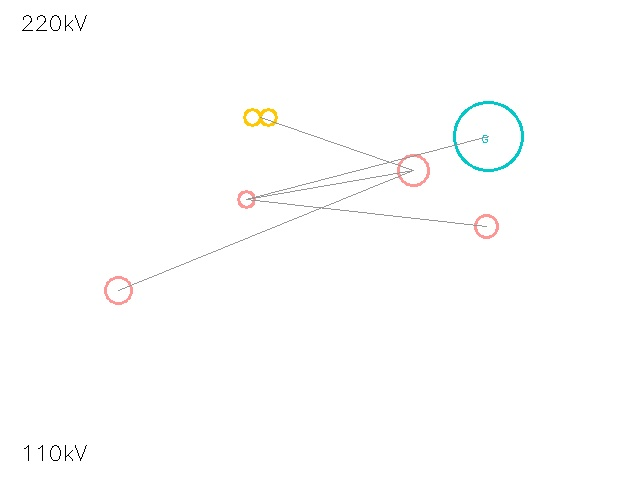current_transformer: (229, 182, 263, 216)
feeder_terminal: (382, 139, 444, 201)
generator: (454, 102, 522, 170)
reactor: (463, 203, 509, 249)
transformer_2w: (240, 97, 280, 137)
voltage_transformer: (91, 263, 145, 317)
